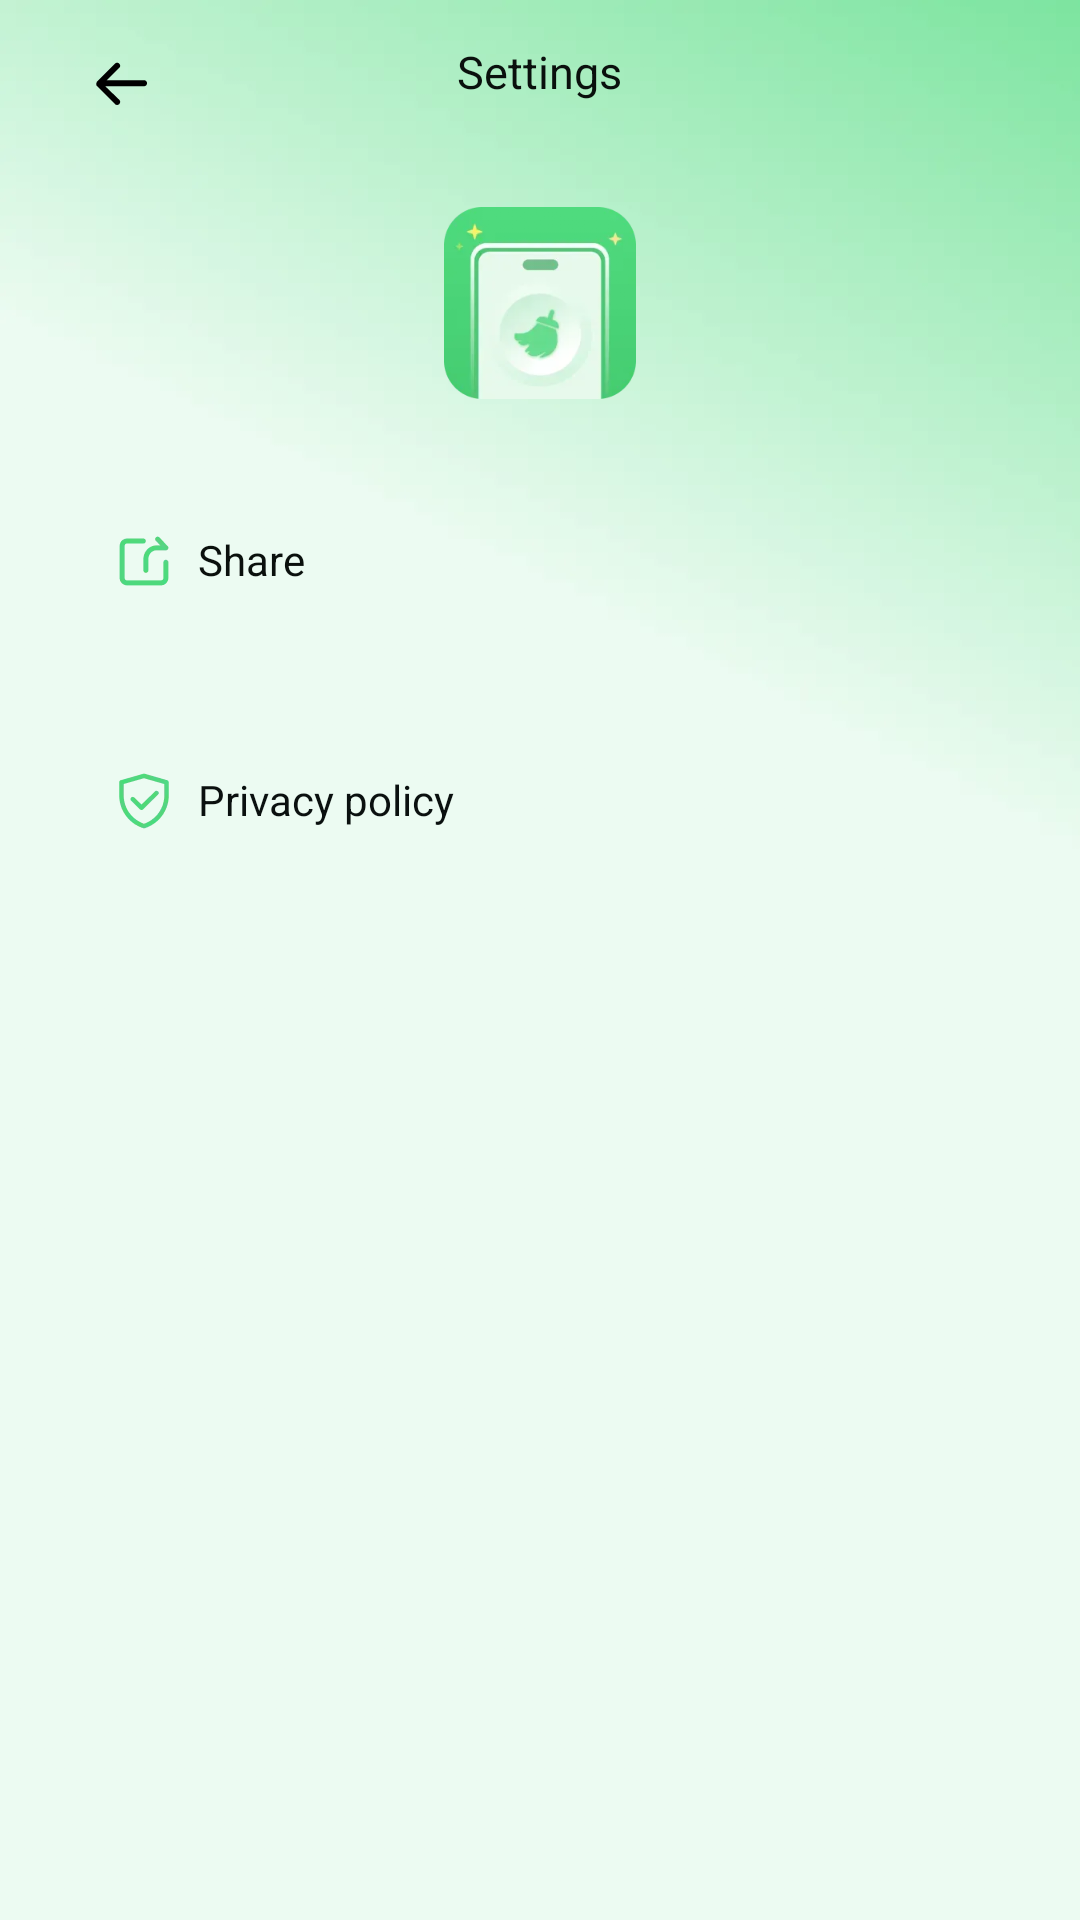

Screen size 1080*1920. Icon name, then its center in pixels as (x,y):
reture: (121,83)
